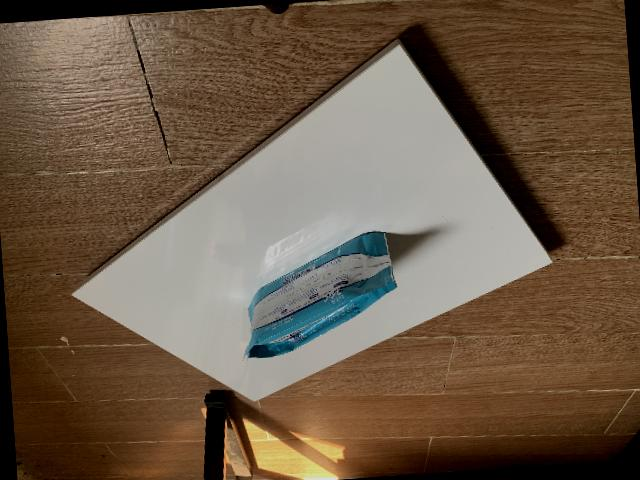Let-green_alcohol_wipes: (241, 229, 396, 360)
